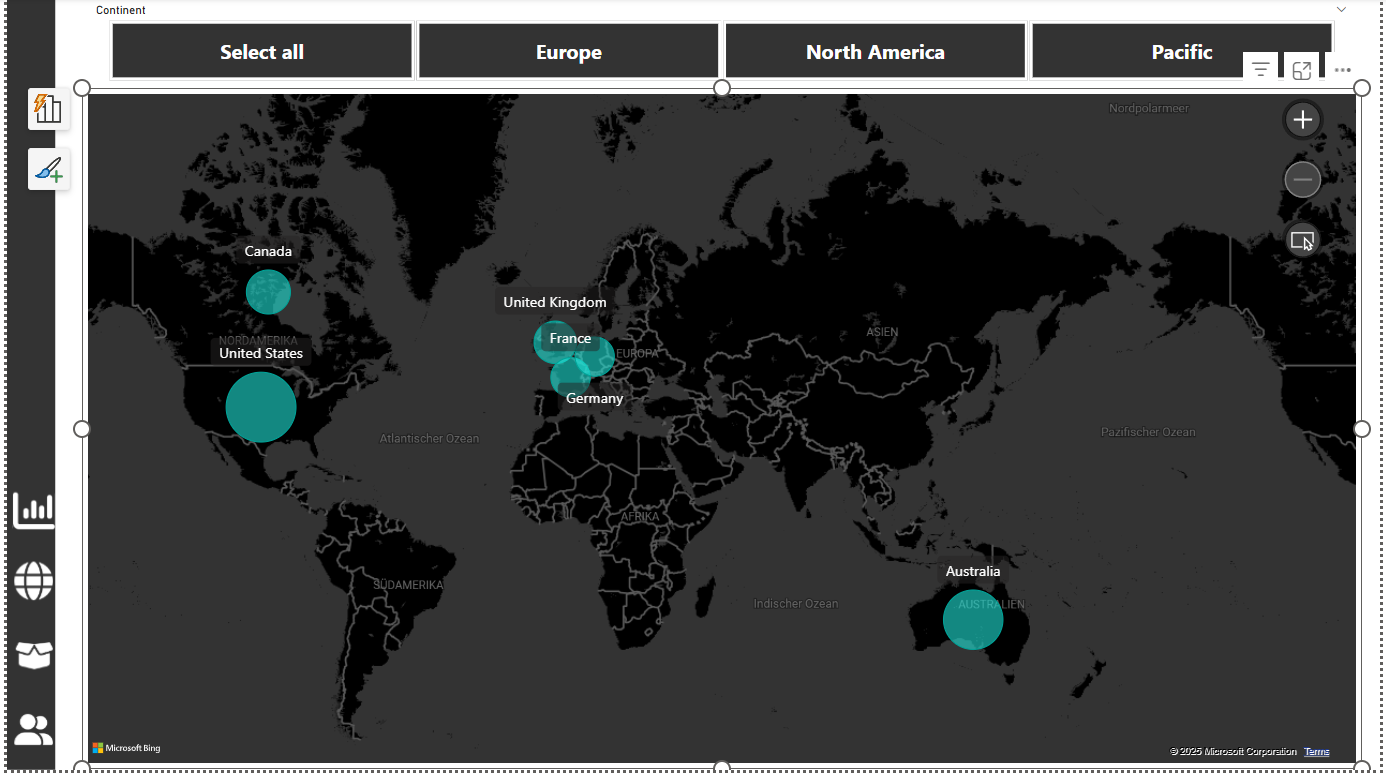

The page's visual inventory and layout, read from the dashboard file:
{"tool":"powerbi","page":{"name":"Map","canvas":[1280,720],"ordinal":1},"visuals":[{"type":"map","fields":{"Category":["Stores.store_city"],"Size":["Measure Table.Total Transactions"]},"box":[12.6,90.9,856.2,621.2],"z":0},{"type":"slicer","fields":{"Values":["Stores.store_country"]},"box":[12.6,16.8,845,74.1],"z":1000},{"type":"treemap","fields":{"Group":["Stores.store_state","Stores.store_city","Stores.store_country"],"Values":["Measure Table.Total Transactions"]},"box":[878.6,16.8,401.5,695.3],"z":2000}]}

Visuals, with their boxes on the page's 1280x720 design canvas (x1, y1, x2, y2). These are canvas units, not pixel positions in the 1386x778 screenshot, which may show the page scaled, cropped or inside an application window:
map - Stores.store_city x Measure Table.Total Transactions: rect(13, 91, 869, 712)
slicer - Stores.store_country: rect(13, 17, 858, 91)
treemap - Stores.store_state x Stores.store_city: rect(879, 17, 1280, 712)
